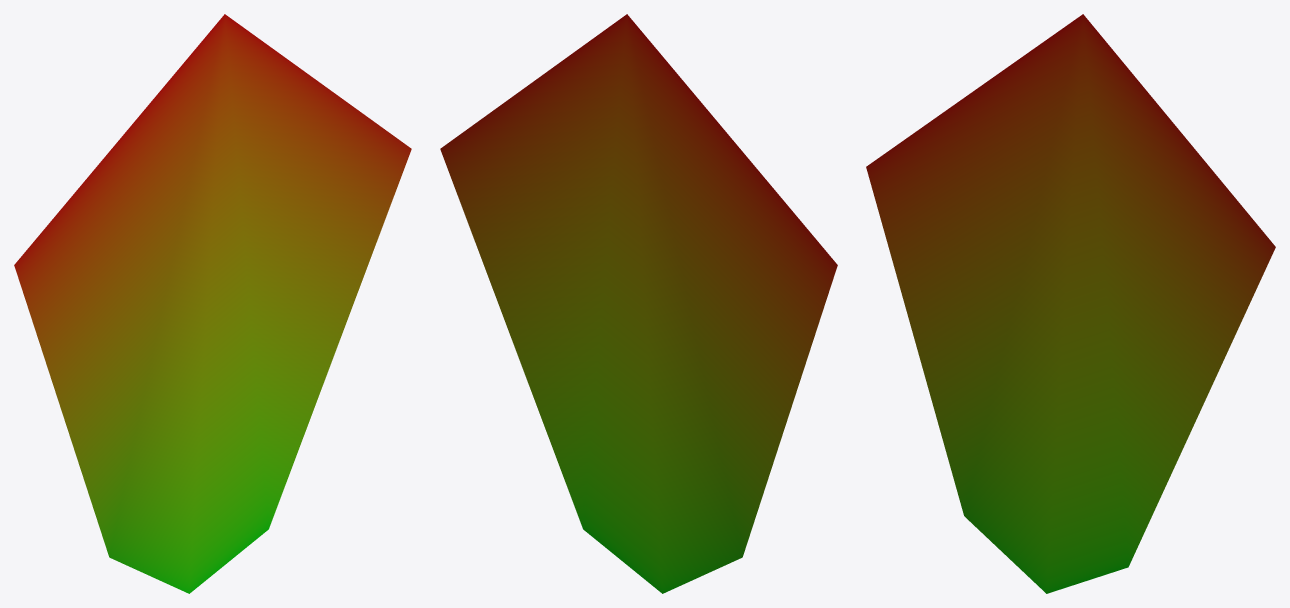
The model's file is Var6_LOD6.fbx.
3 renders of one model, left to right at view 1: azimuth 30°, elevation 25°; view 2: azimuth 150°, elevation 25°; view 3: azimuth 330°, elevation 25°, orthographic. The views are drawn at different scales.
Visible parts, largest first — view 1: _td0h_Var6_LOD6; view 2: _td0h_Var6_LOD6; view 3: _td0h_Var6_LOD6.
Boxes of the visible parts, bbox=[...] form: _td0h_Var6_LOD6: bbox=[14, 14, 411, 593]; _td0h_Var6_LOD6: bbox=[440, 14, 837, 593]; _td0h_Var6_LOD6: bbox=[866, 14, 1275, 593].
Size of the model in its own units: 17.46 by 23.96 by 2.86e-06.
